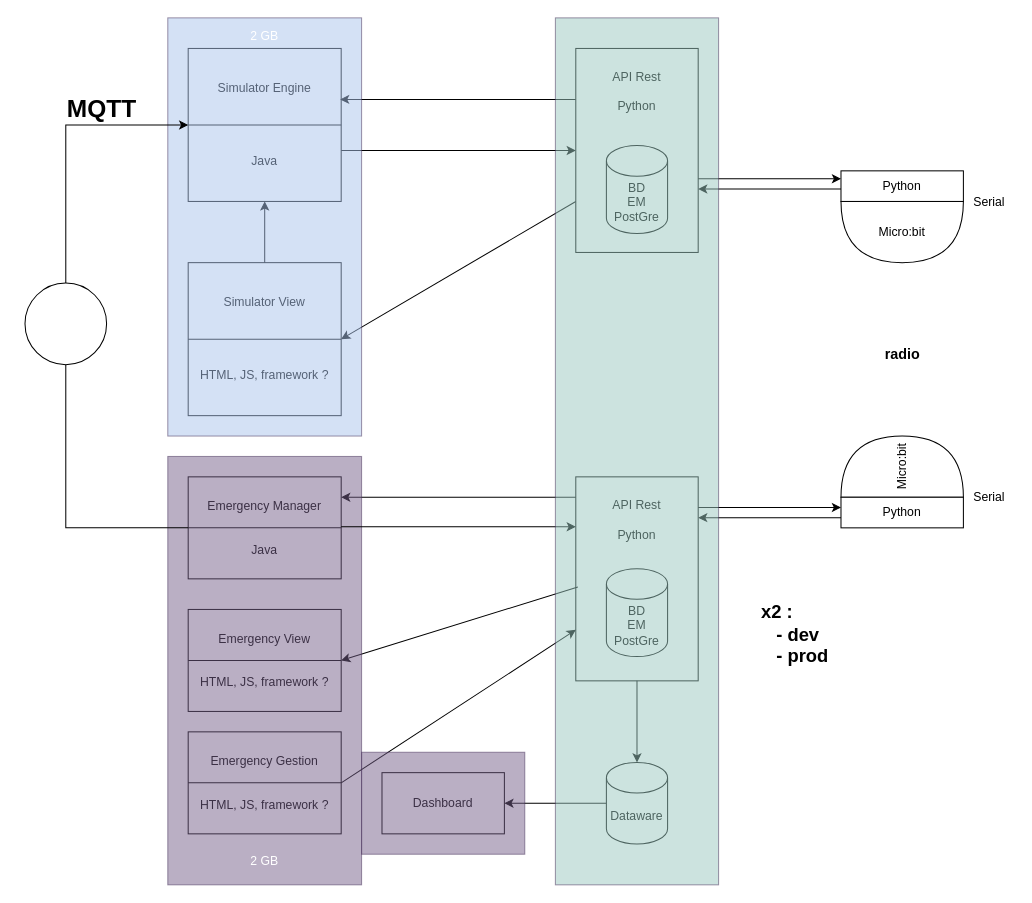
This 1032x903 diagram has some shape labels left out. The box of each missing label's shape, as (x1, y1, x2, y2) in pixels:
3 GB: (554, 17, 719, 885)
Mosquitto: (24, 282, 107, 365)
